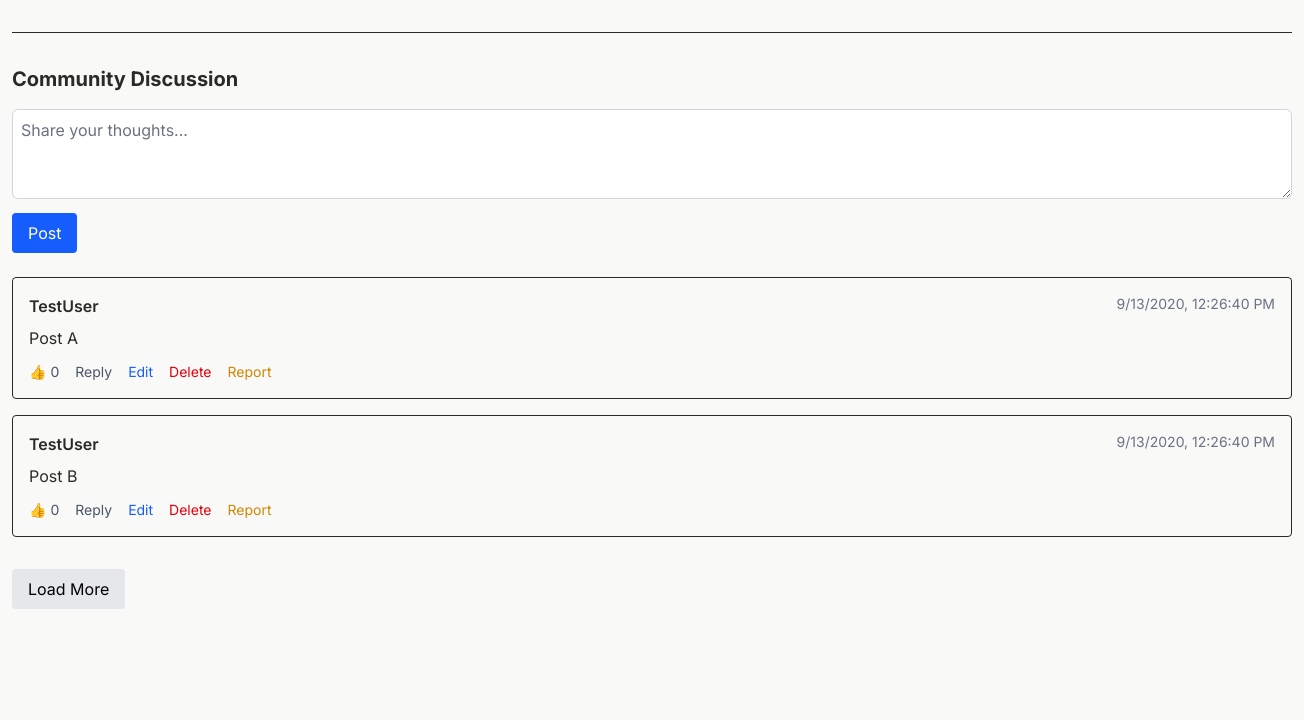
Test: CommunityDiscussion › overlapping post-list requests › ignores an older reload that fails after a newer one succeeded
Expected: the text "Post A" is shown, [29, 328, 78, 348]
Click the button named "Upvote": (44, 372) [29, 362, 59, 382]
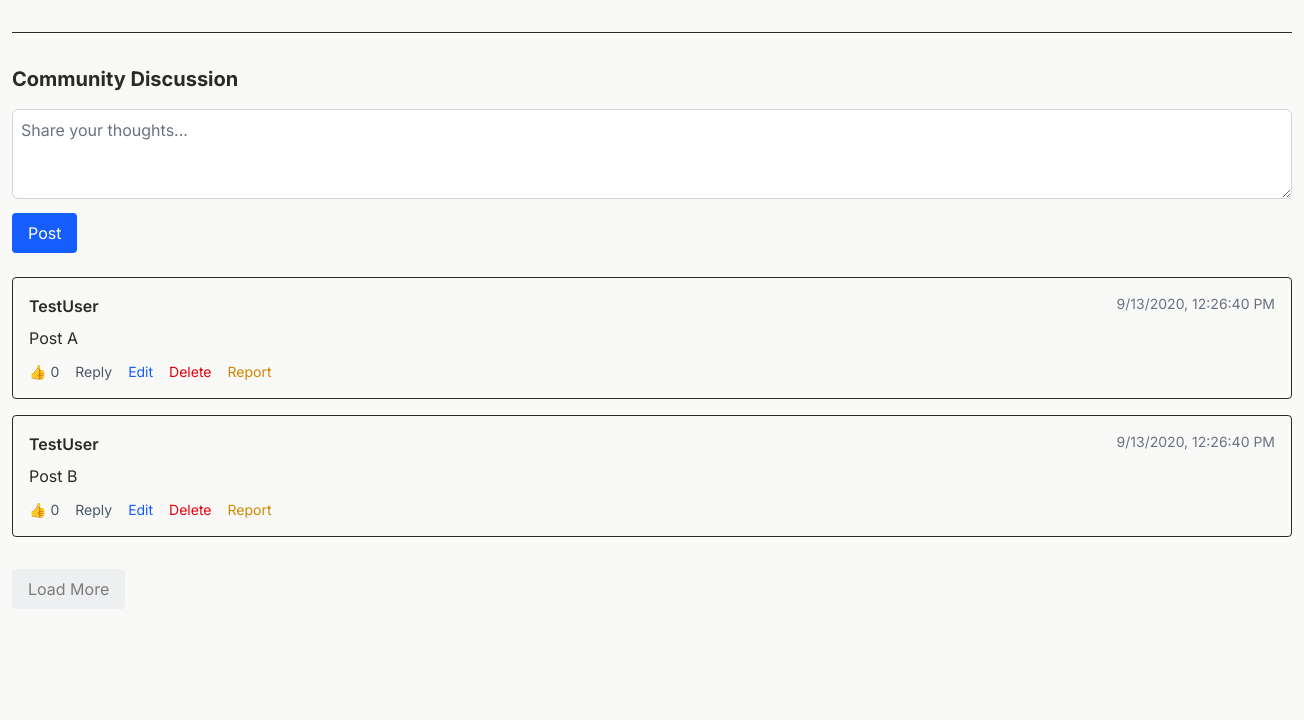
Click the button named "Upvote": (44, 510) [29, 500, 59, 520]
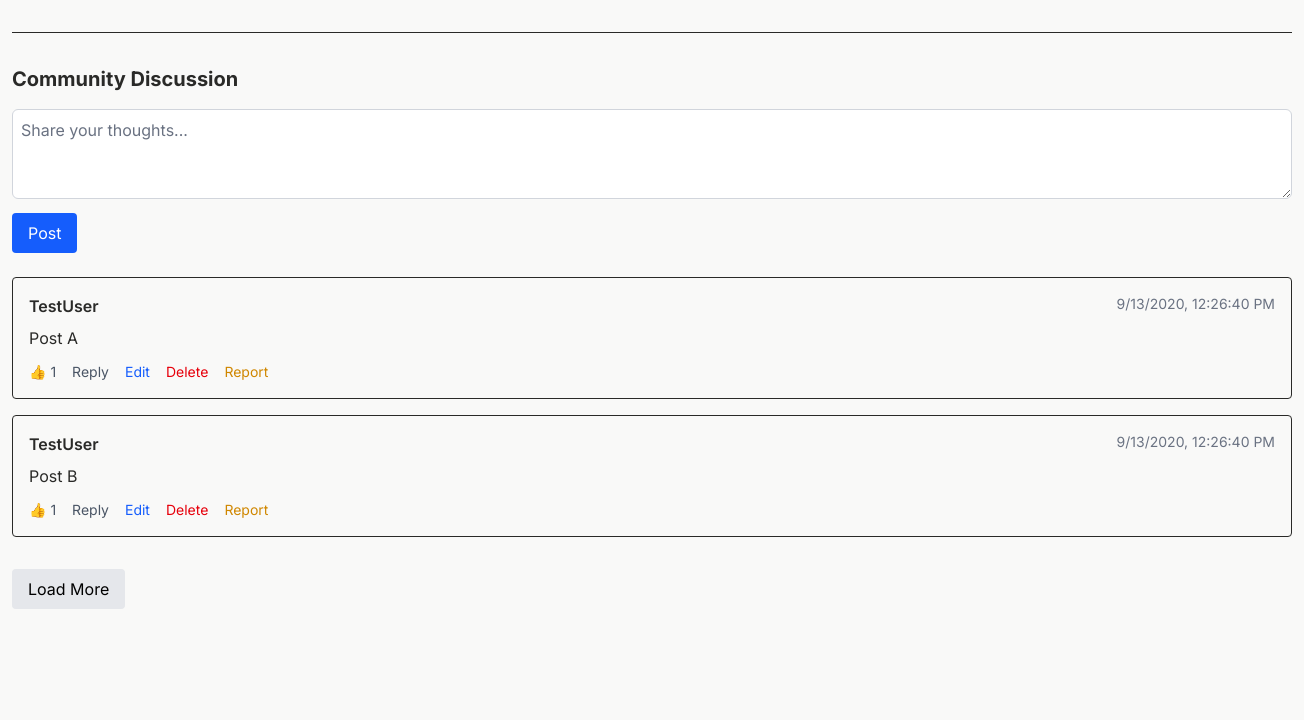
Expected: the number of buttons "👍 1" is 2, [29, 362, 56, 382]; [29, 500, 56, 520]
Result: the button "Load More" is enabled at [12, 569, 125, 609]
